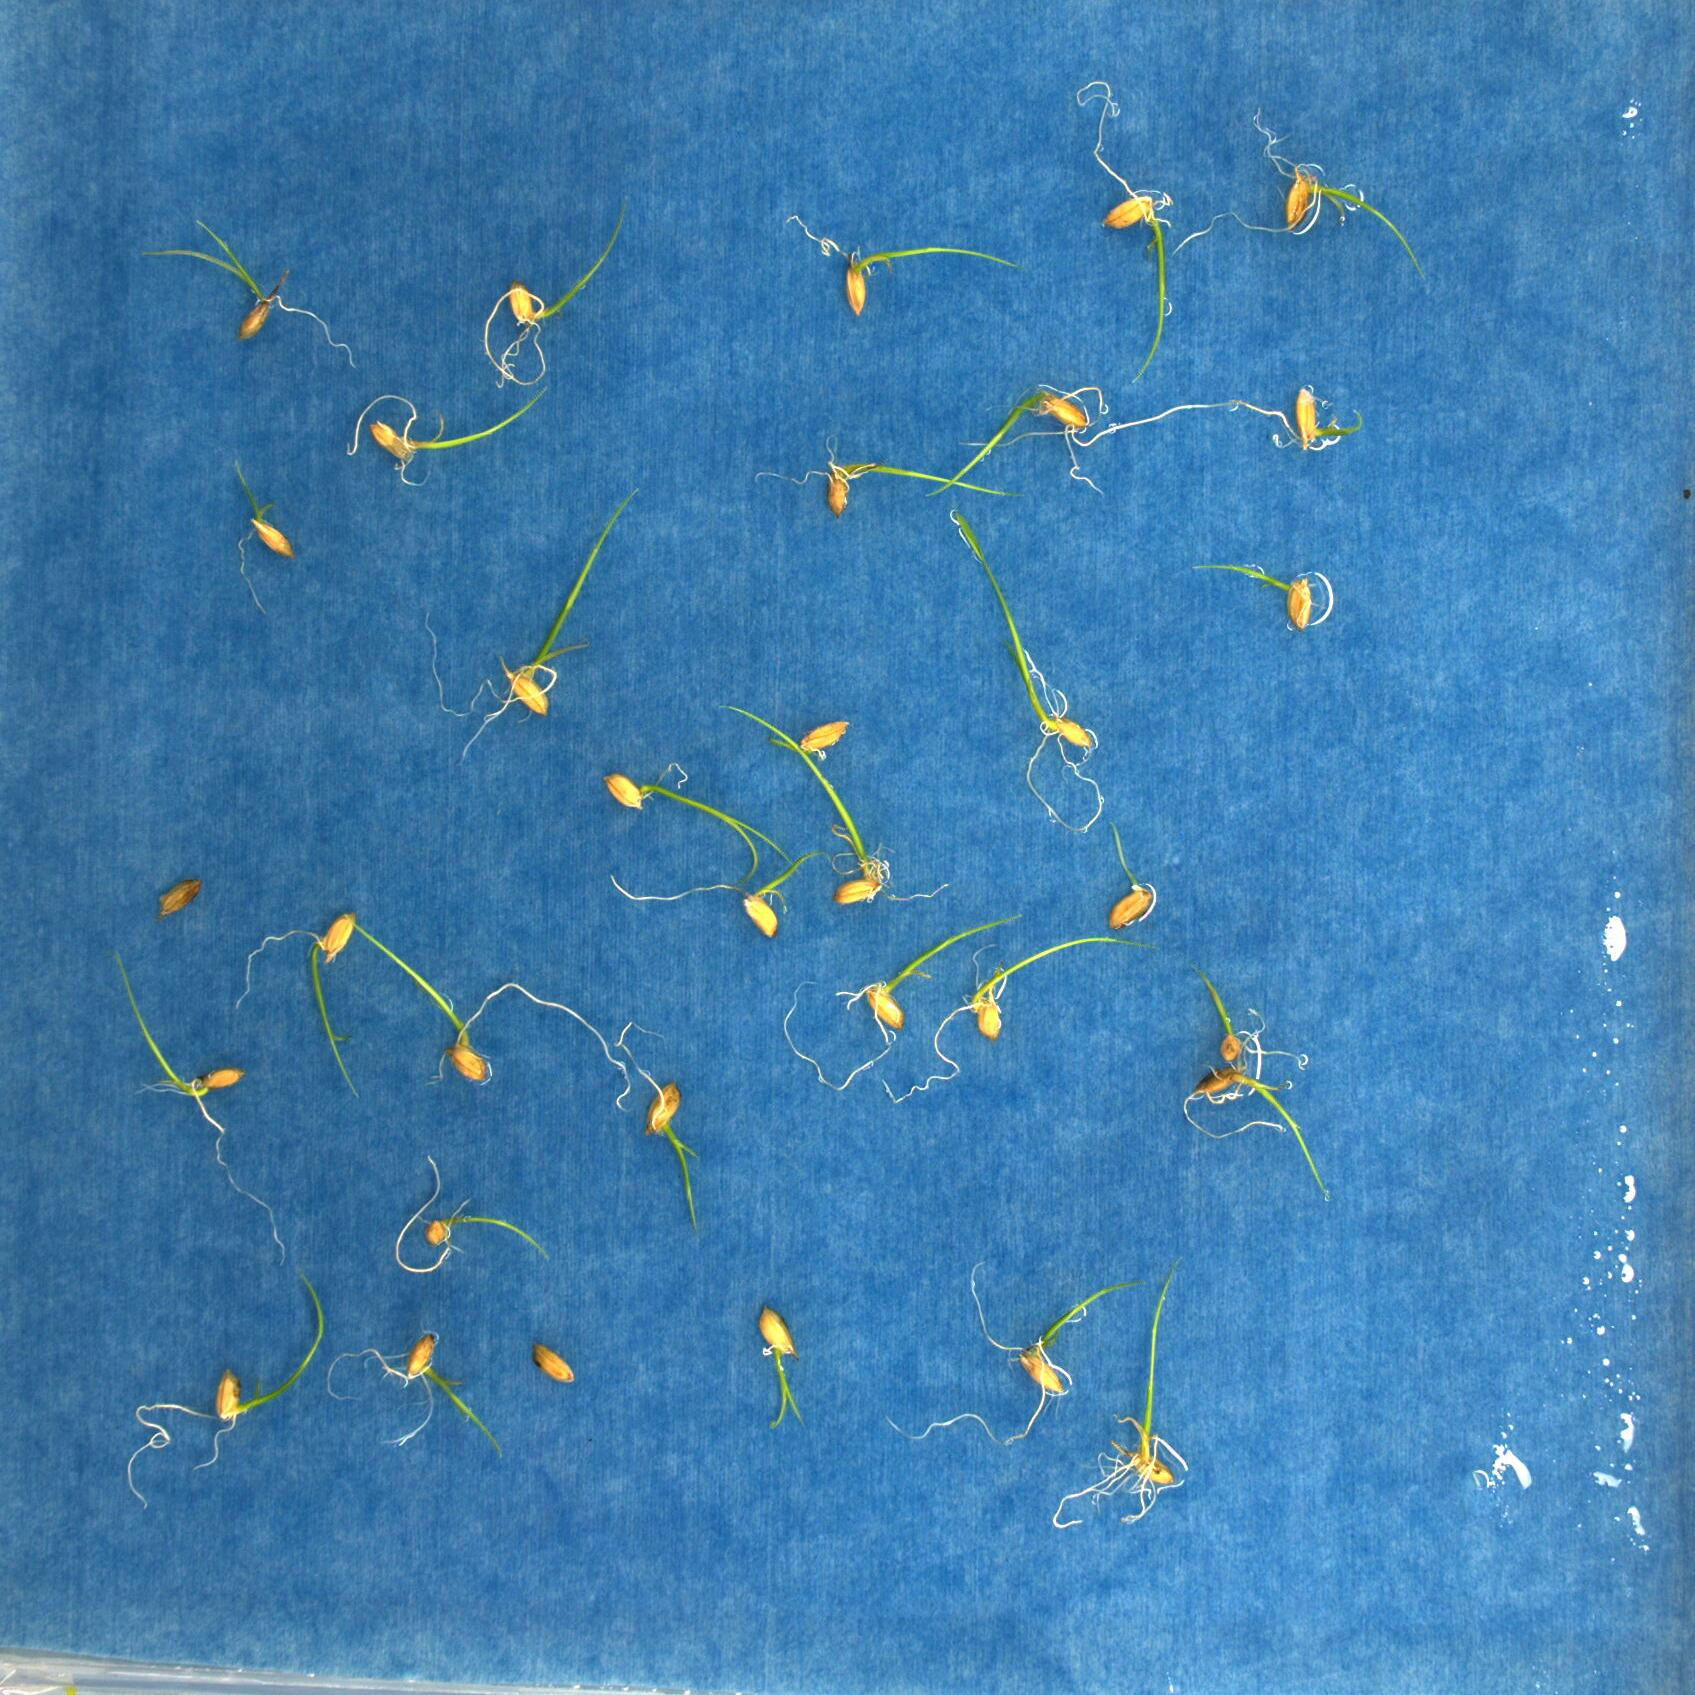not sprout: (531, 1341, 577, 1385), (158, 877, 203, 920)
sprout: (424, 486, 641, 761), (113, 945, 286, 1265), (352, 924, 632, 1111), (948, 504, 1104, 834), (885, 1260, 1153, 1444), (1172, 107, 1433, 293), (882, 934, 1161, 1105), (719, 702, 950, 906), (127, 1273, 326, 1510), (781, 913, 1024, 1093), (1051, 1253, 1186, 1526), (1063, 385, 1364, 497), (140, 217, 359, 369), (1074, 79, 1173, 383), (1183, 1007, 1332, 1203), (604, 761, 806, 891), (484, 203, 629, 385), (784, 211, 1020, 318), (751, 432, 1031, 518), (234, 913, 363, 1101), (326, 1330, 504, 1464), (924, 385, 1111, 498), (612, 847, 837, 941), (345, 386, 548, 487), (393, 1153, 553, 1274), (615, 1021, 698, 1231), (1192, 965, 1305, 1069), (234, 456, 293, 612), (1194, 563, 1316, 629), (757, 1305, 802, 1431), (1108, 820, 1153, 933), (771, 719, 854, 754)
